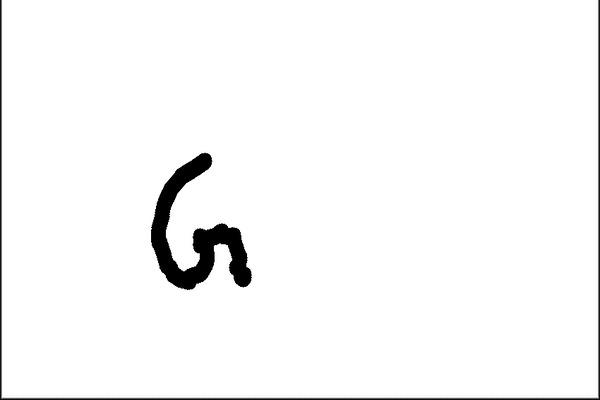G: (147, 150, 256, 292)
